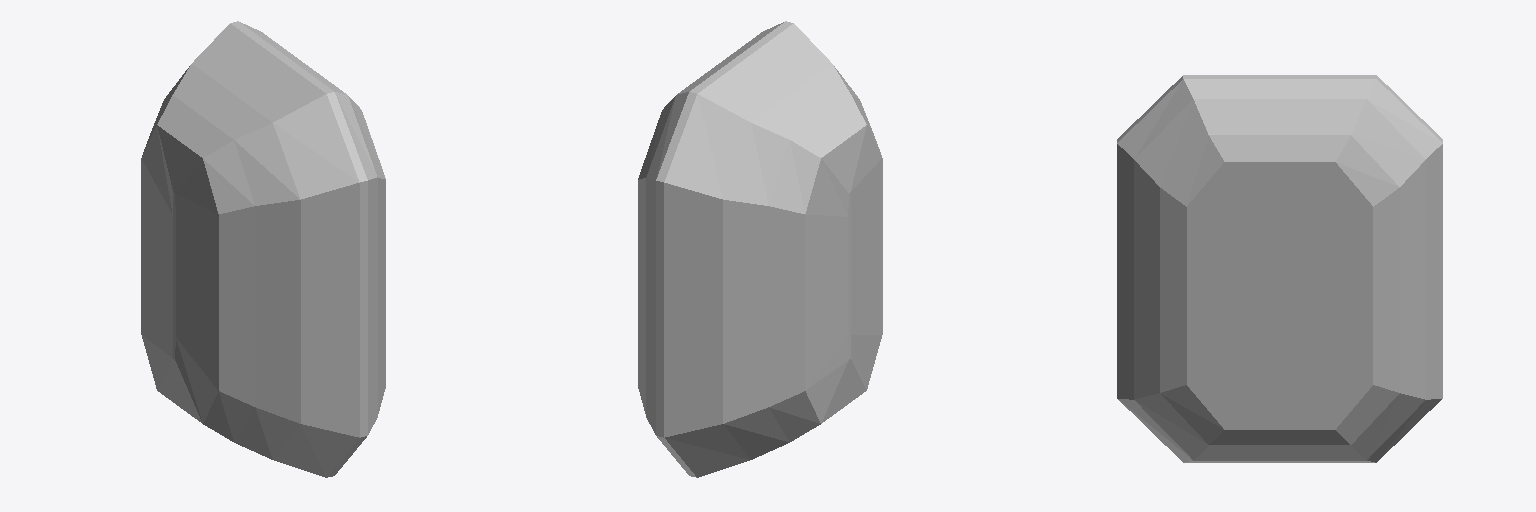
File: emerald.obj
3 views of the same model, side by side, from view 1: azimuth 30°, elevation 25°; view 2: azimuth 150°, elevation 25°; view 3: azimuth 270°, elevation 25° (orthographic).
Parts seen in each view (by area): view 1: emerald_obj_1; view 2: emerald_obj_1; view 3: emerald_obj_1.
Boxes of the visible parts, <box> form: emerald_obj_1: <box>141,21,385,477</box>; emerald_obj_1: <box>638,21,882,477</box>; emerald_obj_1: <box>1117,75,1442,462</box>.
Bounding box in the file's own units: 9.78 × 21.94 × 16.86.